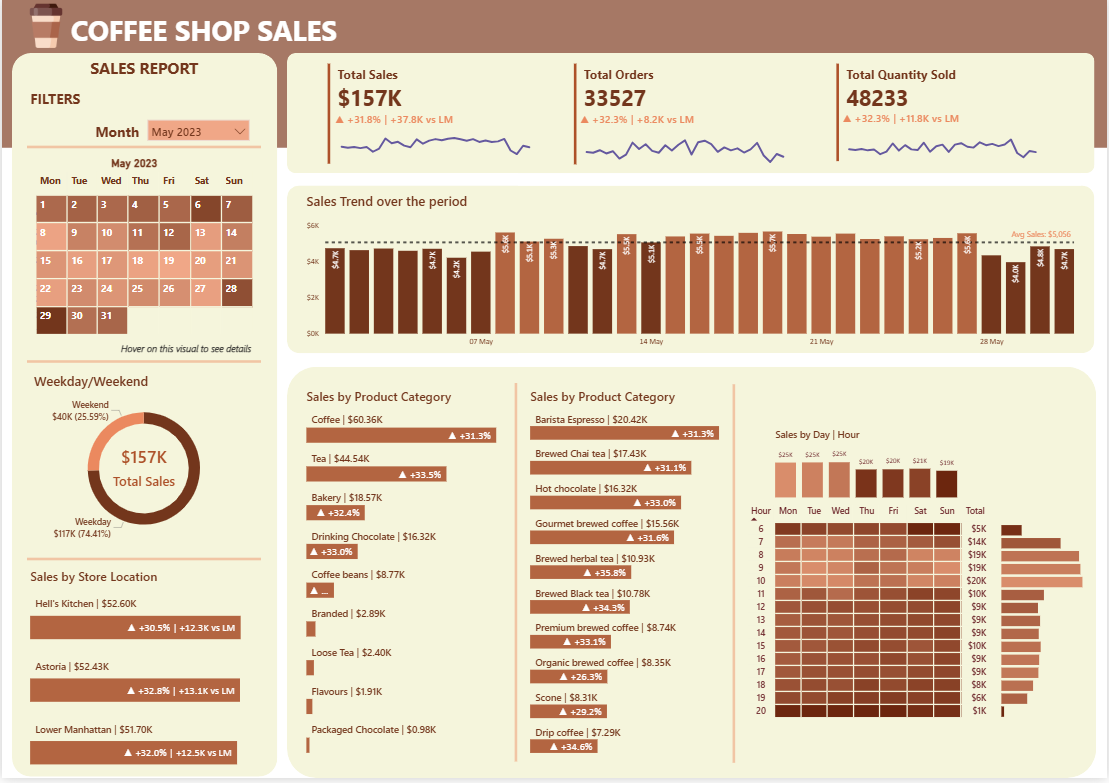

The dashboard page shown, as its layout file describes it:
{"tool":"powerbi","page":{"name":"Page 1","canvas":[1700,1200],"ordinal":0},"visuals":[{"type":"textbox","box":[0,0,1700,230],"z":0},{"type":"shape","box":[15,85,408.3,1113.3],"z":1000},{"type":"shape","box":[437.5,85,1242.5,185],"z":2000},{"type":"textbox","box":[68,16,486,70],"z":3000},{"type":"cardVisual","fields":{"Data":["Transactions.Total Sales"]},"box":[495.7,95.7,329.8,164.9],"z":4000,"group":"g1"},{"type":"cardVisual","fields":{"Data":["Transactions.Total Orders"]},"box":[874.1,96,353.7,165.7],"z":4000,"group":"g2"},{"type":"cardVisual","fields":{"Data":["Transactions.Total Quantity Sold"]},"box":[1278,96,338,160],"z":4000,"group":"g3"},{"type":"slicer","fields":{"Values":["Date Table.Month Year"]},"box":[218.3,183.3,166.7,50],"z":4000},{"type":"group","id":"g1","title":"Group 1","box":[495.7,95.7,328.6,164.3],"z":5000},{"type":"group","id":"g2","title":"Group 1","box":[874.1,96,354,164],"z":6000},{"type":"lineChart","fields":{"Category":["Date Table.Date.Variation.Date Hierarchy.Year","Date Table.Date.Variation.Date Hierarchy.Quarter","Date Table.Date.Variation.Date Hierarchy.Month","Date Table.Date.Variation.Date Hierarchy.Day"],"Y":["Transactions.Total Quantity Sold"]},"box":[1288.4,173.1,317.3,81.7],"z":6000,"group":"g3"},{"type":"lineChart","fields":{"Category":["Date Table.Date.Variation.Date Hierarchy.Year","Date Table.Date.Variation.Date Hierarchy.Quarter","Date Table.Date.Variation.Date Hierarchy.Month","Date Table.Date.Variation.Date Hierarchy.Day"],"Y":["Transactions.Total Orders"]},"box":[883.2,174.4,332.7,84.1],"z":6000,"group":"g2"},{"type":"lineChart","fields":{"Category":["Date Table.Date.Variation.Date Hierarchy.Year","Date Table.Date.Variation.Date Hierarchy.Quarter","Date Table.Date.Variation.Date Hierarchy.Month","Date Table.Date.Variation.Date Hierarchy.Day"],"Y":["Transactions.Total Sales"]},"box":[506.5,175.3,318.8,85.3],"z":6000,"group":"g1"},{"type":"group","id":"g3","title":"Group 1","box":[1278,96,338,160],"z":7000},{"type":"pivotTable","fields":{"Rows":["Date Table.WeekNo"],"Columns":["Date Table.Day Name"],"Values":["Min(Date Table.Day No)"]},"box":[43.3,260.8,348.3,291.7],"z":8000},{"type":"card","fields":{"Values":["Min(Date Table.Month Year)"]},"box":[145,235.8,119.2,37.5],"z":9000},{"type":"card","fields":{"Values":["Transactions.Foot Note"]},"box":[167.5,520.8,232.5,40],"z":10000},{"type":"donutChart","title":" Weekday/Weekend","fields":{"Category":["Date Table.Weekends/Weekday"],"Y":["Transactions.Total Sales"]},"box":[43.3,575.8,348.3,271.7],"z":11000},{"type":"card","fields":{"Values":["Transactions.Total Sales"]},"box":[132,676,172,86],"z":12000},{"type":"shape","box":[38.3,847.5,360,30],"z":13000},{"type":"shape","box":[38.6,214.3,360,31.4],"z":14000},{"type":"shape","box":[38,544,360,30],"z":15000},{"type":"clusteredBarChart","title":"Sales by Store Location","fields":{"Category":["Transactions.store_location"],"Y":["Transactions.Placeholder","Transactions.Total Sales"]},"box":[38.3,877.5,361.7,312.5],"z":16000},{"type":"shape","box":[438,288,1242,258],"z":17000},{"type":"columnChart","title":"Sales Trend over the period","fields":{"Category":["Transactions.transaction_date"],"Y":["Transactions.Total Sales"]},"box":[462.5,297.5,1195,247.5],"z":18000},{"type":"shape","box":[437.5,567.5,1245,632.5],"z":19000},{"type":"clusteredBarChart","title":"Sales by Product Category","fields":{"Y":["Transactions.Placeholder","Transactions.Total Sales"],"Category":["Transactions.product_category"]},"box":[462.5,600,330,567.5],"z":20000},{"type":"shape","box":[777.5,592.5,27.5,582.5],"z":21000},{"type":"clusteredBarChart","title":"Sales by Product Category","fields":{"Y":["Transactions.Placeholder","Transactions.Total Sales"],"Category":["Transactions.product_type"]},"box":[807.5,600,330,567.5],"z":22000},{"type":"shape","box":[1112.5,595,25,582.5],"z":23000},{"type":"pivotTable","fields":{"Rows":["Transactions.Hour"],"Columns":["Date Table.Day Name"],"Values":["Transactions.Total Sales"]},"box":[1141.8,774.4,390,342.5],"z":24000},{"type":"barChart","fields":{"Category":["Transactions.Hour"],"Y":["Transactions.Total Sales"]},"box":[1531.8,797.4,137,313],"z":25000},{"type":"columnChart","title":"Sales by Day | Hour","fields":{"Y":["Transactions.Total Sales"],"Category":["Date Table.Day Name"]},"box":[1185,661,291,113],"z":26000},{"type":"textbox","box":[138.3,186.7,90,43.3],"z":27000},{"type":"textbox","box":[130,86,182,42],"z":28000},{"type":"textbox","box":[38.3,135,90,43.3],"z":29000},{"type":"image","box":[28.8,0,77.5,85],"z":30000}]}

Visuals, with their boxes in screenshot pixels (x1, y1, x2, y2), scaled from the page's 1700x1200 canvas onto the 1109x783 screenshot:
textbox: region(0, 0, 1108, 150)
shape: region(10, 55, 276, 782)
shape: region(285, 55, 1096, 176)
textbox: region(44, 10, 361, 56)
cardVisual - Transactions.Total Sales: region(323, 62, 539, 170)
cardVisual - Transactions.Total Orders: region(570, 63, 801, 171)
cardVisual - Transactions.Total Quantity Sold: region(834, 63, 1054, 167)
slicer - Date Table.Month Year: region(142, 120, 251, 152)
"Group 1" group: region(323, 62, 538, 170)
"Group 1" group: region(570, 63, 801, 170)
lineChart - Date Table.Date.Variation.Date Hierarchy.Year x Date Table.Date.Variation.Date Hierarchy.Quarter: region(840, 113, 1047, 166)
lineChart - Date Table.Date.Variation.Date Hierarchy.Year x Date Table.Date.Variation.Date Hierarchy.Quarter: region(576, 114, 793, 169)
lineChart - Date Table.Date.Variation.Date Hierarchy.Year x Date Table.Date.Variation.Date Hierarchy.Quarter: region(330, 114, 538, 170)
"Group 1" group: region(834, 63, 1054, 167)
pivotTable - Date Table.WeekNo x Date Table.Day Name: region(28, 170, 255, 361)
card - Min(Date Table.Month Year): region(95, 154, 172, 178)
card - Transactions.Foot Note: region(109, 340, 261, 366)
" Weekday/Weekend" donutChart: region(28, 376, 255, 553)
card - Transactions.Total Sales: region(86, 441, 198, 497)
shape: region(25, 553, 260, 573)
shape: region(25, 140, 260, 160)
shape: region(25, 355, 260, 375)
"Sales by Store Location" clusteredBarChart: region(25, 573, 261, 776)
shape: region(286, 188, 1096, 356)
"Sales Trend over the period" columnChart: region(302, 194, 1081, 356)
shape: region(285, 370, 1098, 782)
"Sales by Product Category" clusteredBarChart: region(302, 392, 517, 762)
shape: region(507, 387, 525, 767)
"Sales by Product Category" clusteredBarChart: region(527, 392, 742, 762)
shape: region(726, 388, 742, 768)
pivotTable - Transactions.Hour x Date Table.Day Name: region(745, 505, 999, 729)
barChart - Transactions.Hour x Transactions.Total Sales: region(999, 520, 1089, 725)
"Sales by Day | Hour" columnChart: region(773, 431, 963, 505)
textbox: region(90, 122, 149, 150)
textbox: region(85, 56, 204, 84)
textbox: region(25, 88, 84, 116)
image: region(19, 0, 69, 55)
